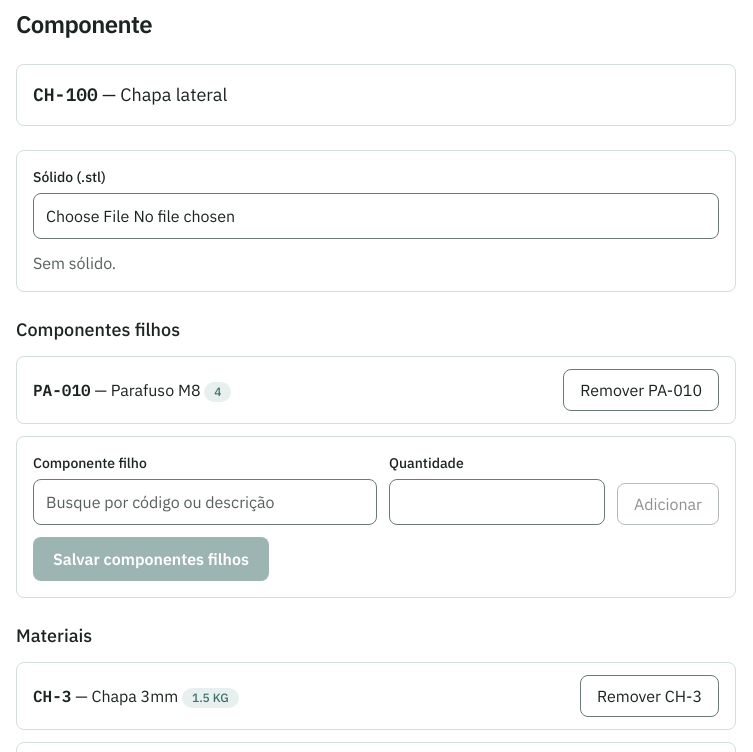
Test: ComponenteDetalhePage — escrita › desabilita Salvar enquanto a gravação está em voo
Expected: the text "PA-010" is shown, [33,380,91,400]
Click the dropdown at coordinates (205, 502), box [33,479,377,525]
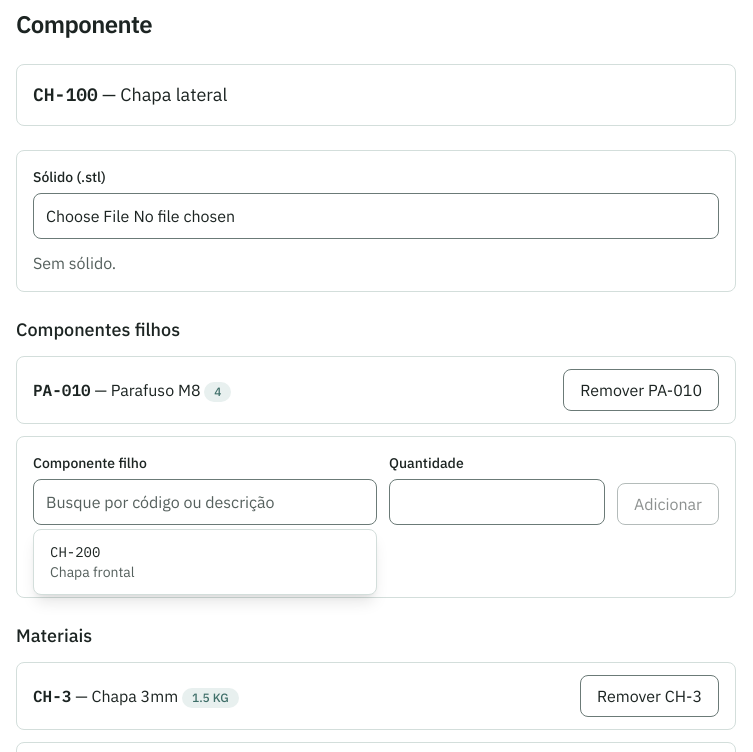
Click the text "CH-200" at coordinates (75, 552), box [50,543,100,561]
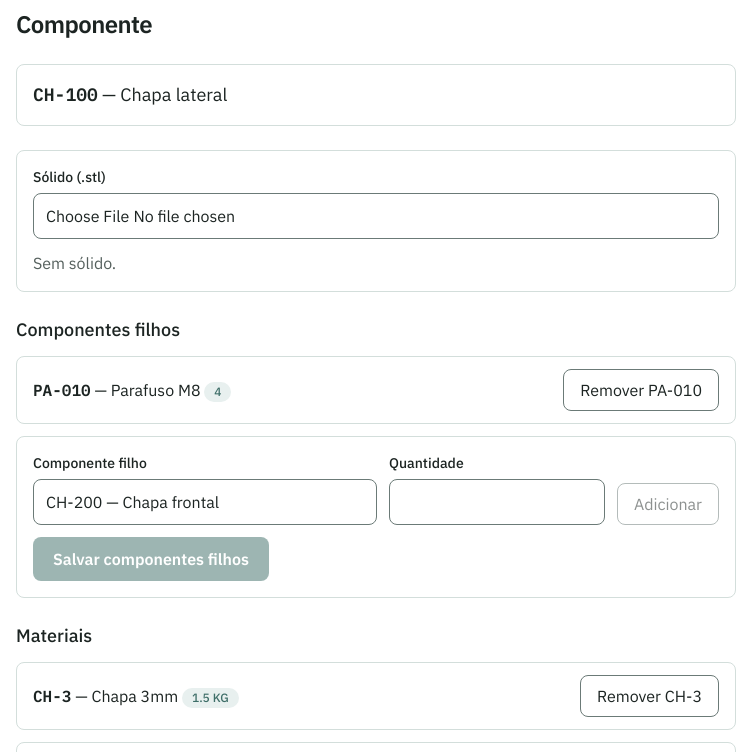
Type "2" into the number field labelled "Quantidade" at coordinates (497, 502), box [389,479,605,525]
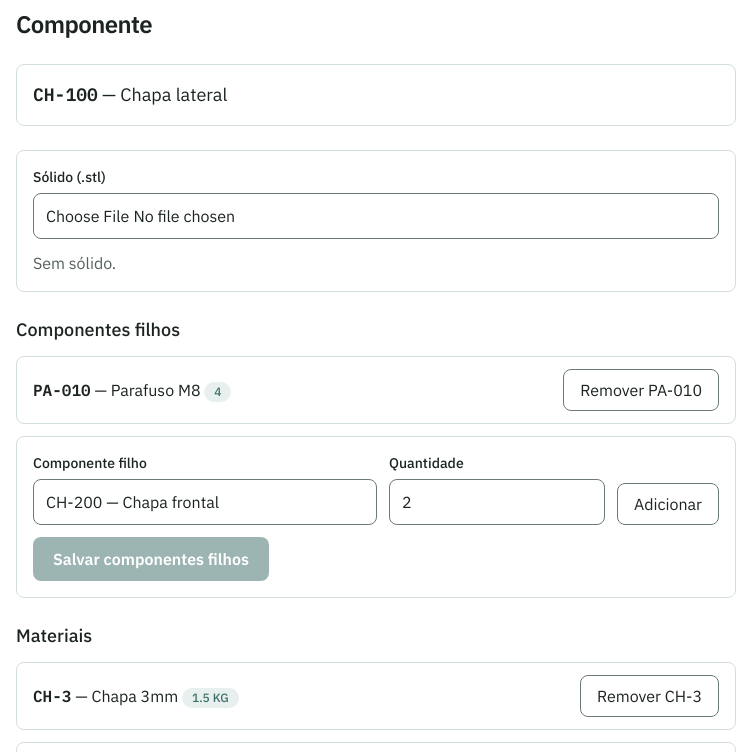
Click the button "Adicionar" at coordinates (668, 504), box [617,483,719,525]
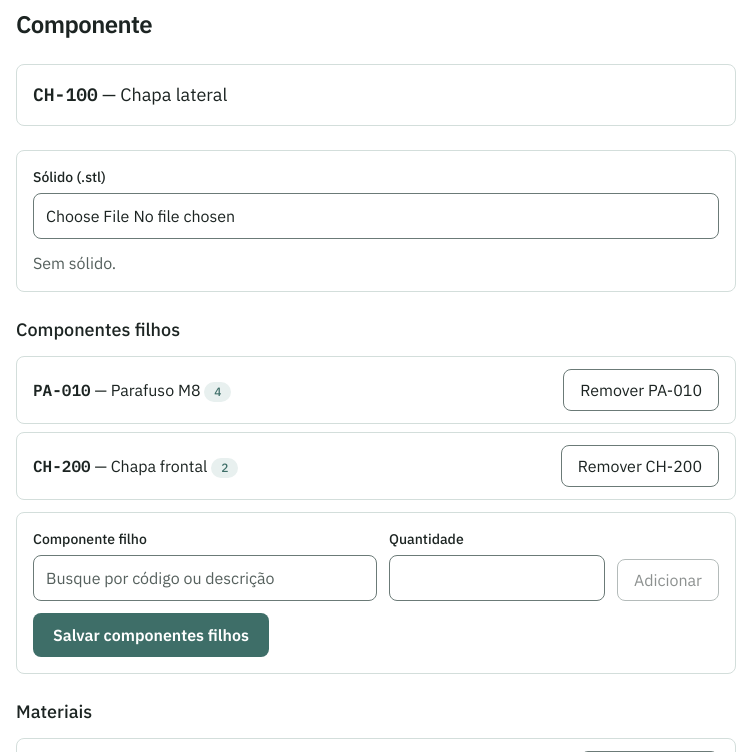
Click the button "Salvar componentes filhos" at coordinates (151, 635), box [33,613,269,657]
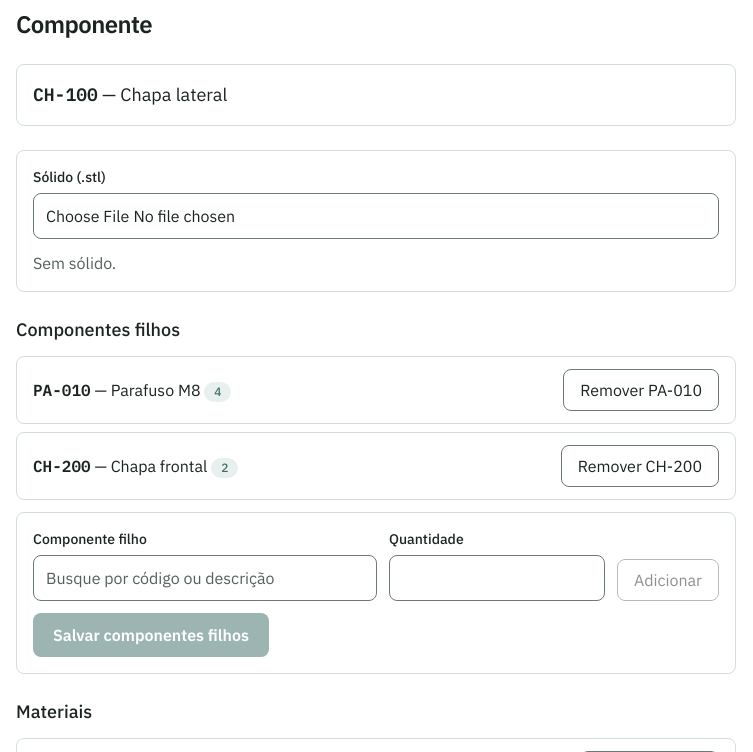
Expected: the text "CH-200" is shown, [33,456,91,476]
Expected: the button "Salvar componentes filhos" is disabled, [33,613,269,657]
